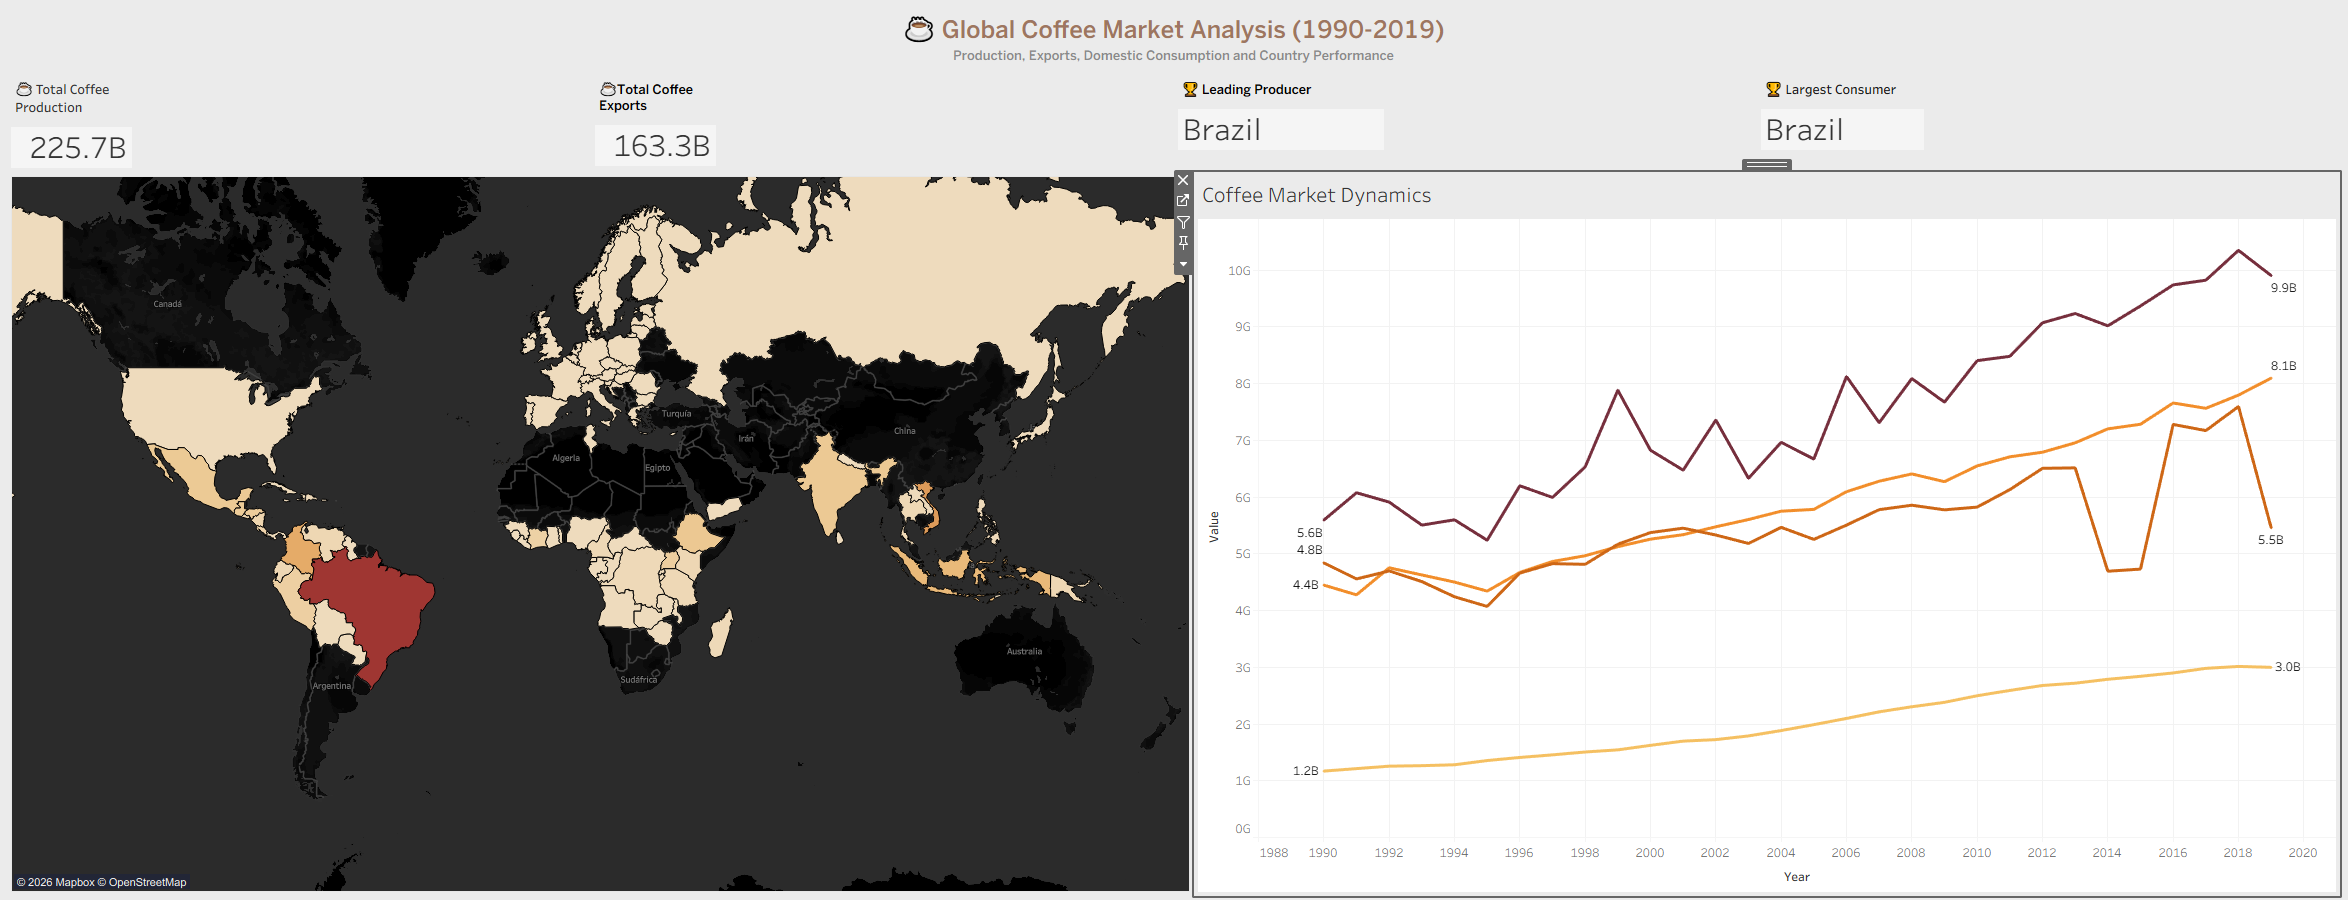

The dashboard page shown, as its layout file describes it:
{"tool":"tableau","page":{"name":"Dashboard 1","canvas":[1000,1000],"units":"permille","ordinal":0},"visuals":[{"type":"title","box":[3.4,8.8,993.2,70.8]},{"type":"worksheet","title":"KPI - Total Production","mark":"Automatic","box":[3.4,79.7,248.6,110.6]},{"type":"worksheet","title":"KPI - Total Exports","mark":"Automatic","box":[252,79.7,248.2,110.6]},{"type":"worksheet","title":"KPI - Leading Producer","mark":"Automatic","box":[500.2,79.7,248.2,110.6]},{"type":"worksheet","title":"KPI - Largest Consumer ","mark":"Automatic","box":[748.4,79.7,248.2,110.6]},{"type":"worksheet","title":"Coffee Production Map","mark":"Automatic","box":[3.4,190.3,505.3,800.9]},{"type":"worksheet","title":"Coffee Market Dynamics","mark":"Line","cols":["Year"],"box":[508.7,190.3,487.9,800.9]}]}

Visuals, with their boxes on the dashboard's canvas, which has no fixed pixel size, in thousandths of its width and height (x1, y1, x2, y2). These are canvas units, not pixel positions in the 2348x900 screenshot, which may show the page scaled, cropped or inside an application window:
title: 3 9 997 80
"KPI - Total Production" worksheet: 3 80 252 190
"KPI - Total Exports" worksheet: 252 80 500 190
"KPI - Leading Producer" worksheet: 500 80 748 190
"KPI - Largest Consumer " worksheet: 748 80 997 190
"Coffee Production Map" worksheet: 3 190 509 991
"Coffee Market Dynamics" worksheet (Line marks): 509 190 997 991
